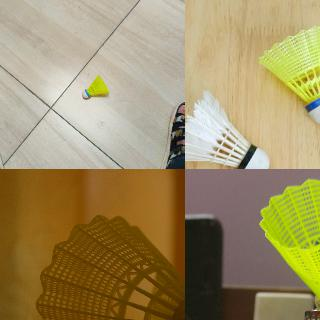shuttlecock: (35, 214, 184, 319), (258, 176, 319, 319), (258, 24, 319, 123), (82, 74, 108, 98)
